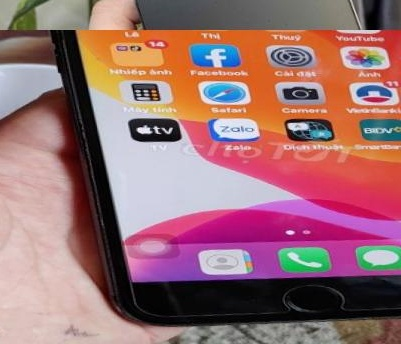scratch: (14, 30, 101, 164), (59, 194, 136, 281)
